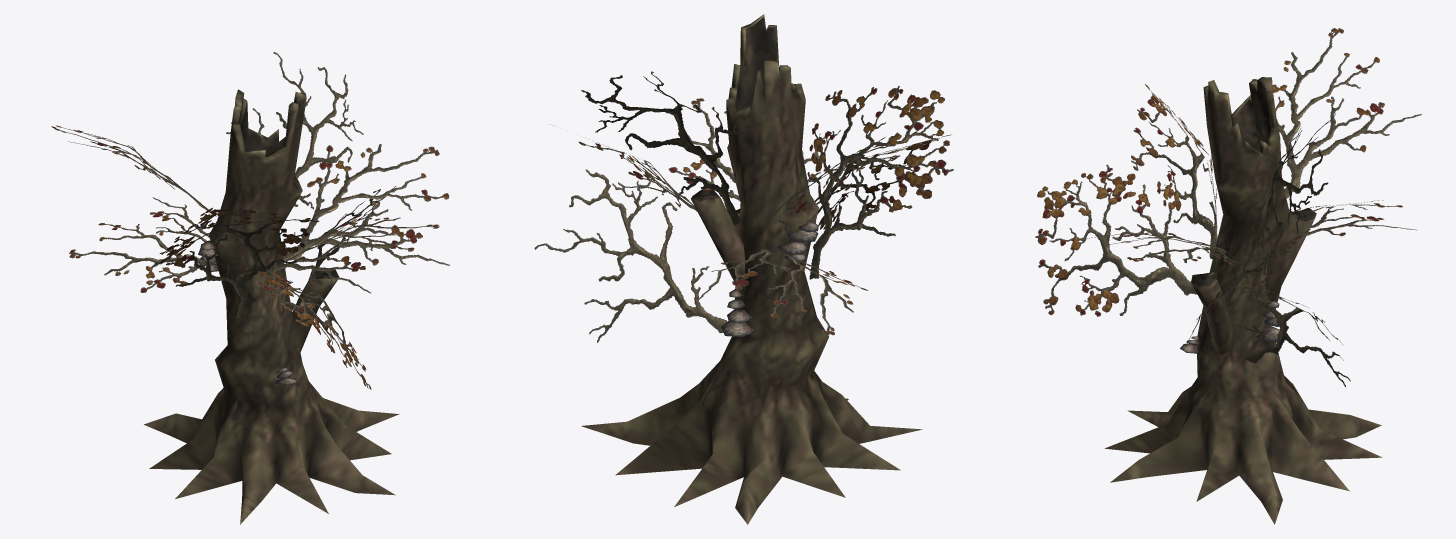
The model's file is Scene_Tree_04.FBX.
3 views of the same model, side by side, from view 1: azimuth 30°, elevation 25°; view 2: azimuth 150°, elevation 25°; view 3: azimuth 270°, elevation 25° (orthographic). The views are drawn at different scales.
Visible parts, largest first — view 1: Scene_Tree_04; view 2: Scene_Tree_04; view 3: Scene_Tree_04.
Part boxes in pixels (<box>): Scene_Tree_04: <box>51,52,449,524</box>; Scene_Tree_04: <box>534,14,953,524</box>; Scene_Tree_04: <box>1035,28,1421,524</box>.
Size of the model in its own units: 13.38 by 12.32 by 12.56.
